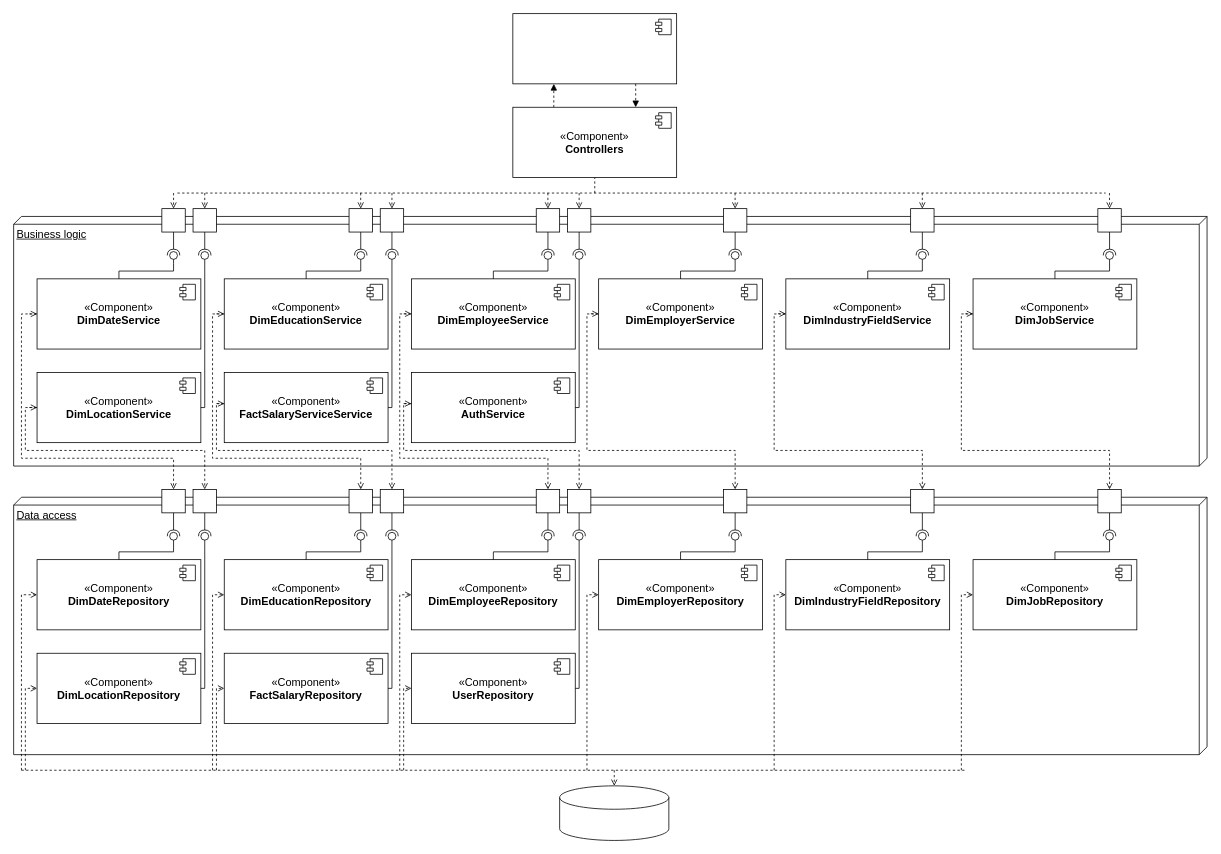
Some shapes in this 1221 by 854 pixel diagram are drawn without their labels. The shapes that lost their labels are listed below. From the top down, each one's centre as x and y in pixels, then its label:
At (594,48): "«Component» UI".
At (614,812): "Database".
